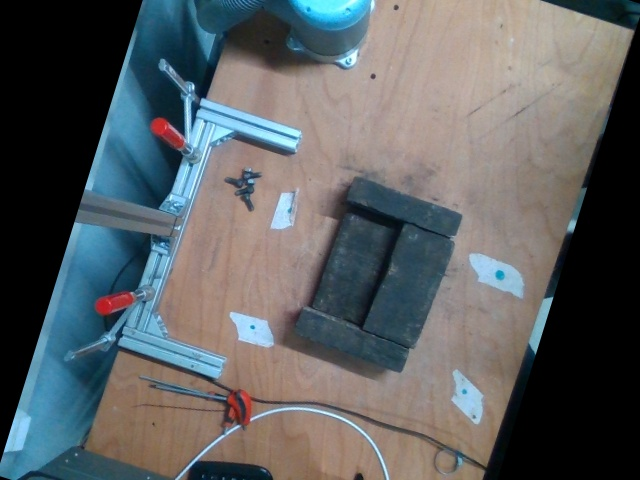brick: (368, 227, 453, 345), (315, 213, 397, 322)
brick-side: (297, 309, 407, 371), (352, 176, 461, 236)
